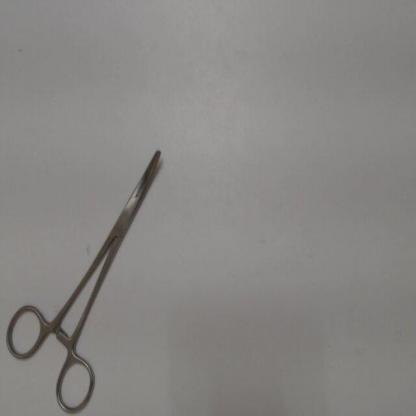Crile Artery Forceps: (2, 143, 167, 413)
